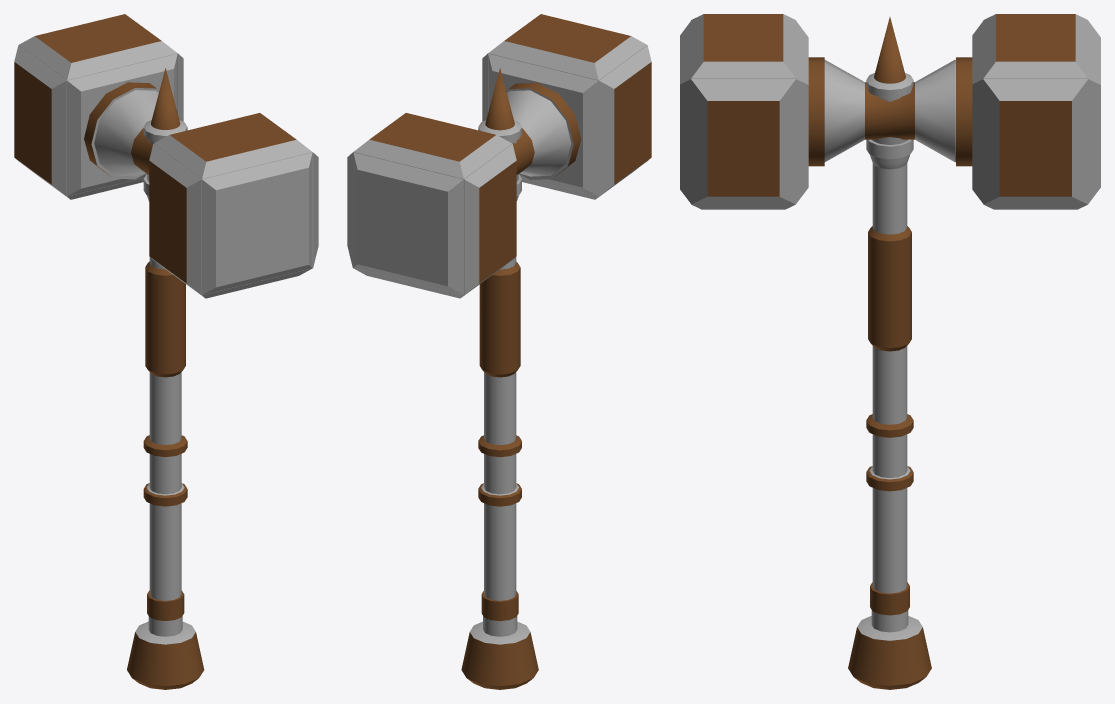
3 renders of one model, left to right at view 1: azimuth 30°, elevation 25°; view 2: azimuth 150°, elevation 25°; view 3: azimuth 270°, elevation 25°, orthographic. The views are drawn at different scales.
Visible parts, largest first — view 1: Cylinder.012; view 2: Cylinder.012; view 3: Cylinder.012.
Part boxes in pixels (x1,y1,x2,y2): Cylinder.012: [14, 14, 318, 689]; Cylinder.012: [347, 14, 651, 689]; Cylinder.012: [680, 14, 1100, 689].
Size of the model in its own units: 161 by 704 by 404.
